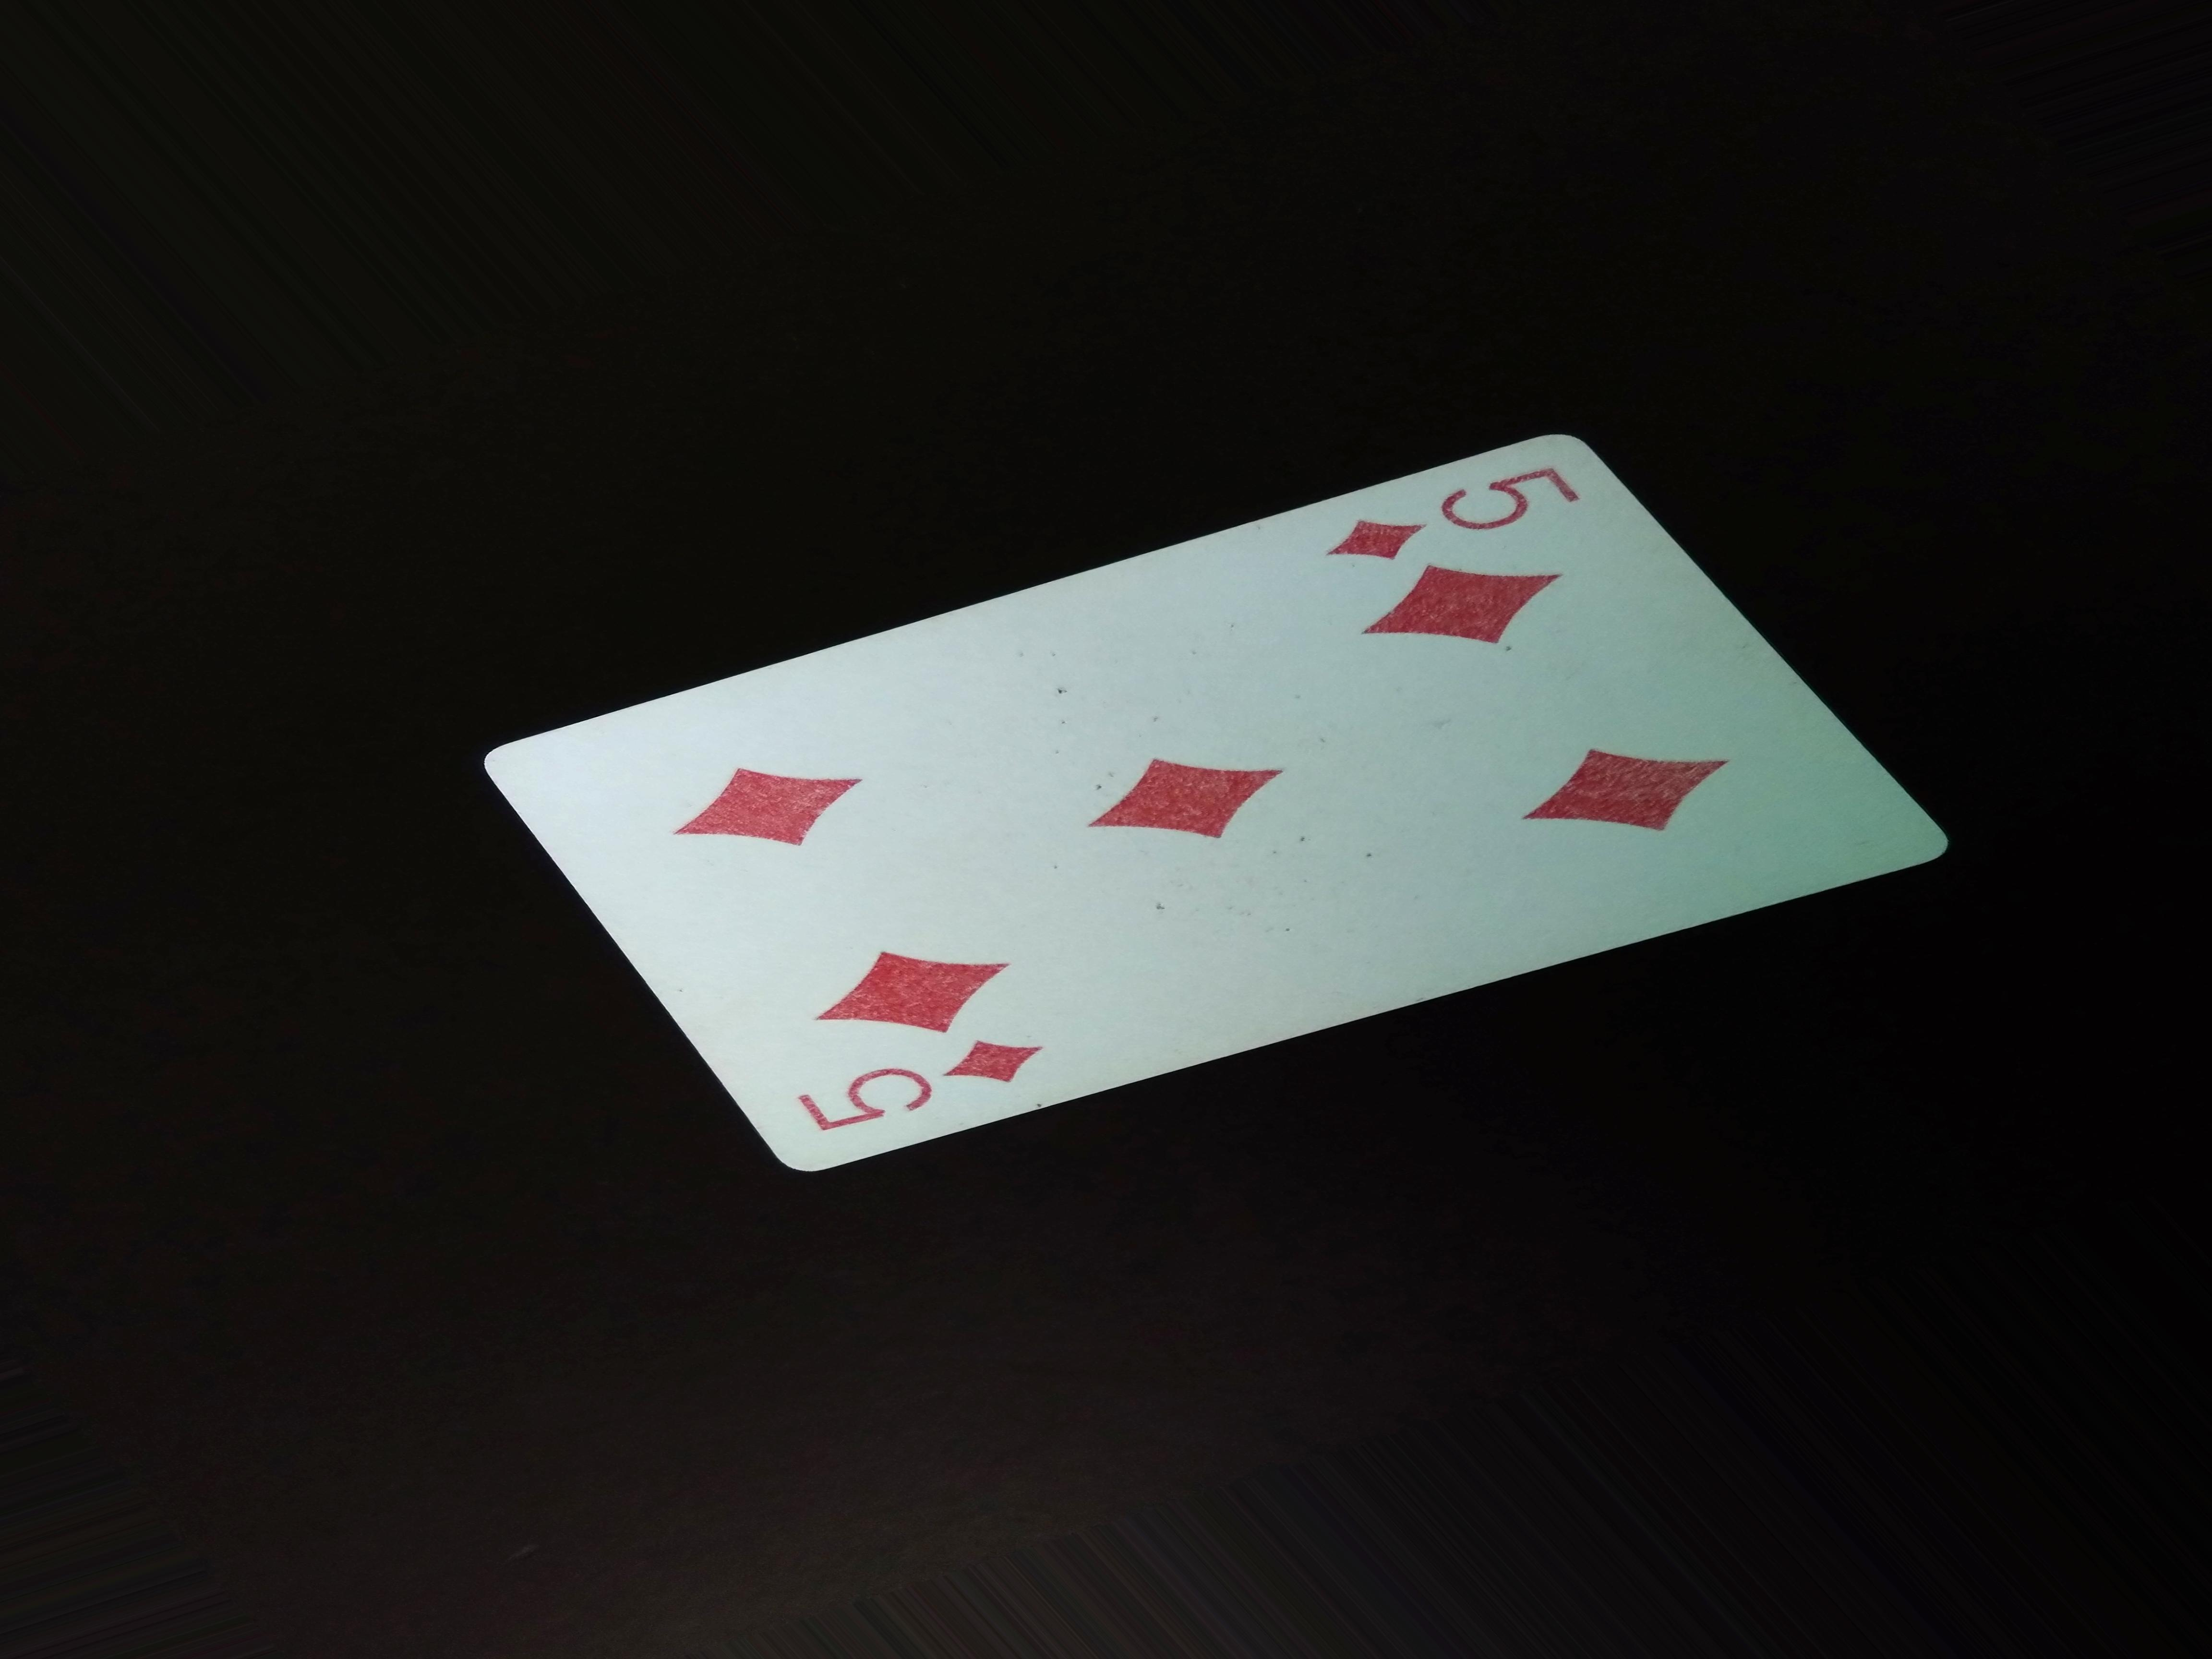5D: (805, 1035, 1054, 1152)
